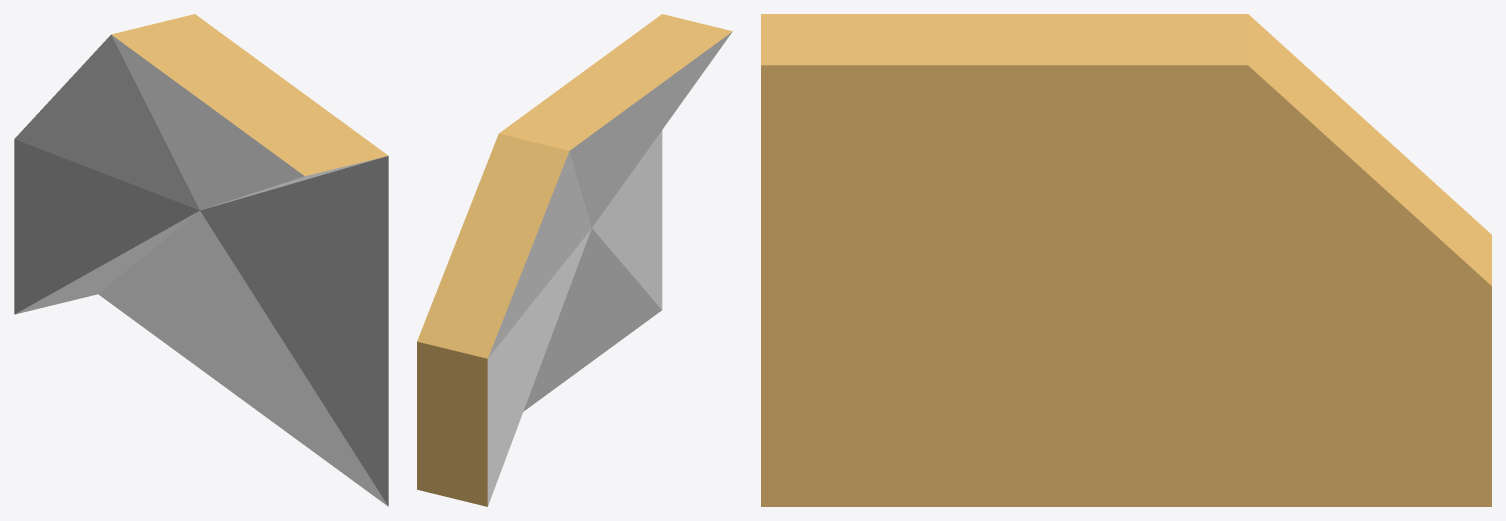
3 views of the same model, side by side, from view 1: azimuth 30°, elevation 25°; view 2: azimuth 150°, elevation 25°; view 3: azimuth 270°, elevation 25° (orthographic). The views are drawn at different scales.
Bounding box in the file's own units: 0.1 × 0.4 × 0.6.
